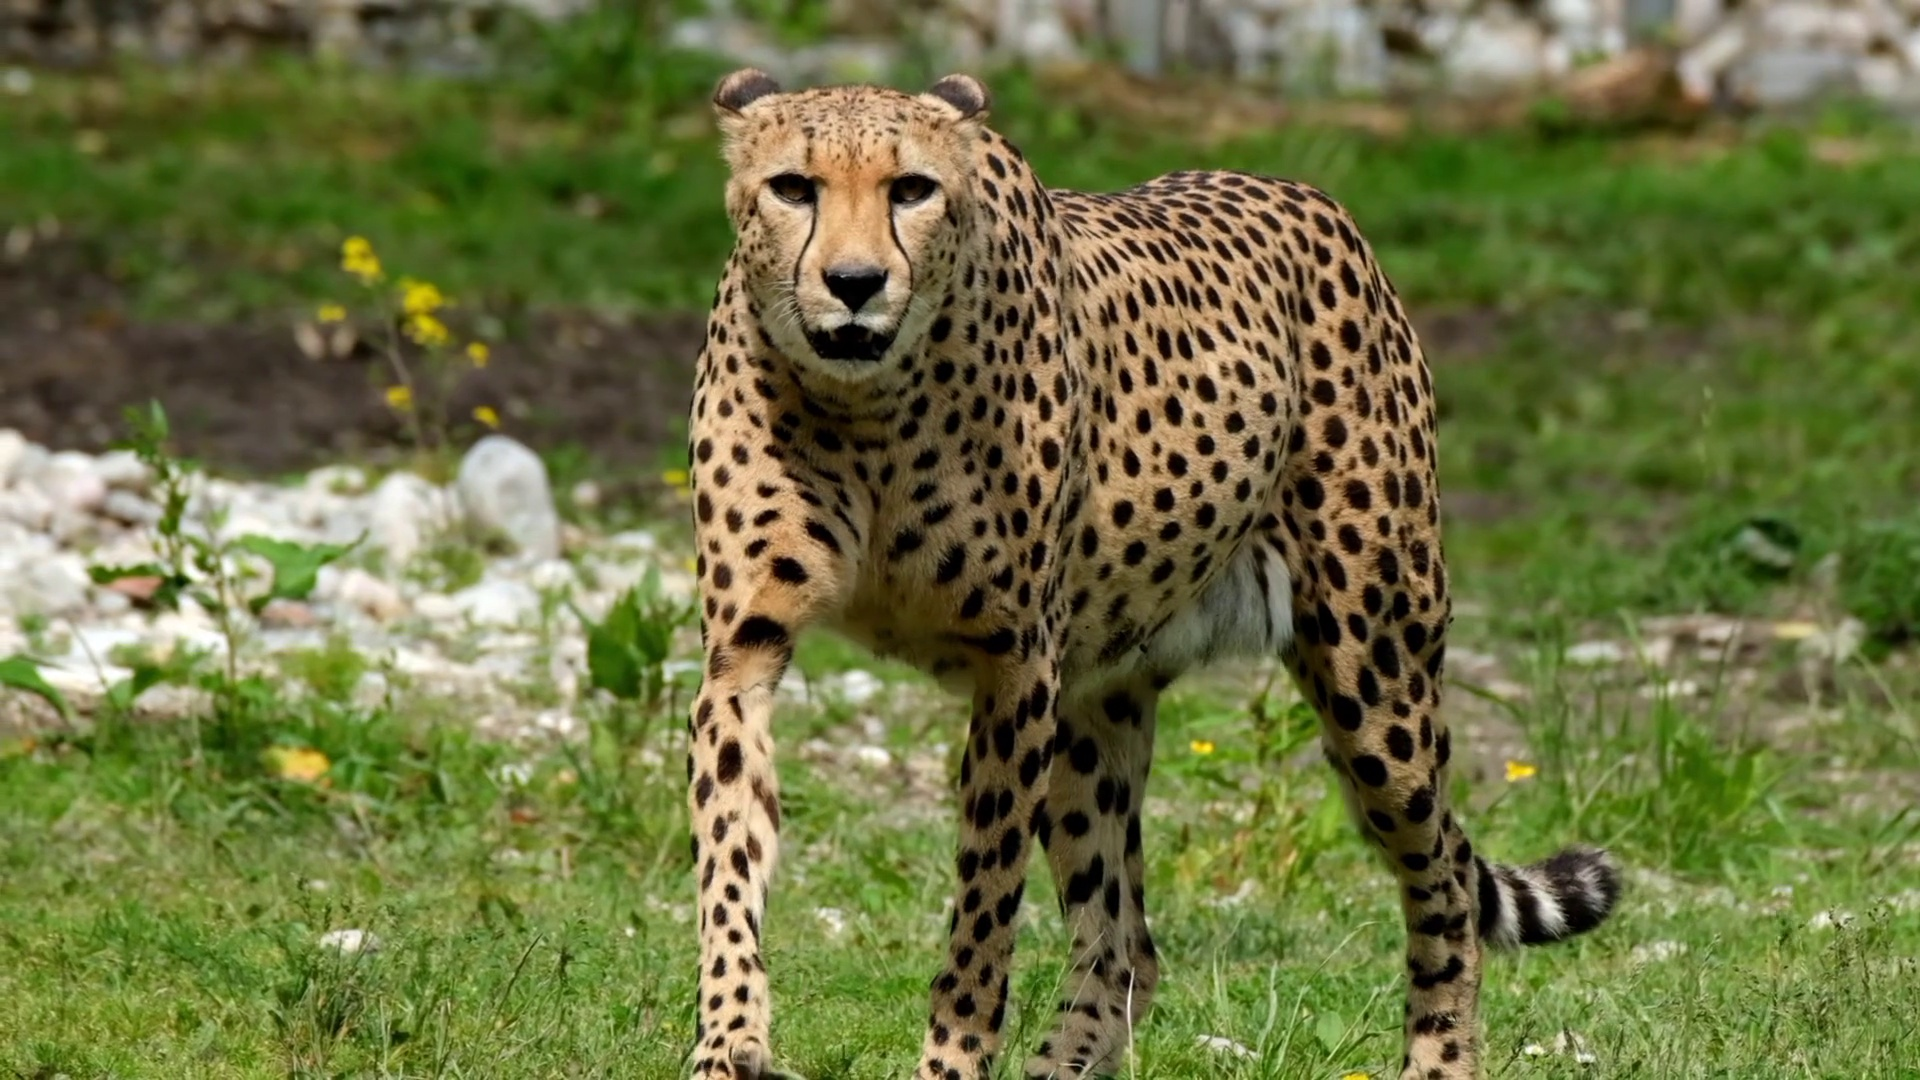Cheetah: (679, 58, 1629, 1073)
